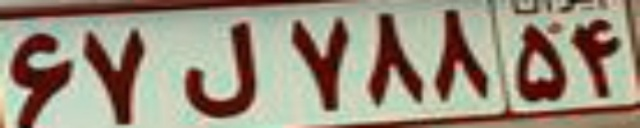4: (571, 19, 623, 100)
5: (514, 23, 569, 100)
6: (5, 31, 73, 126)
7: (82, 26, 153, 126), (287, 13, 350, 112)
8: (363, 12, 423, 106), (432, 8, 491, 101)
lam: (179, 21, 260, 117)
